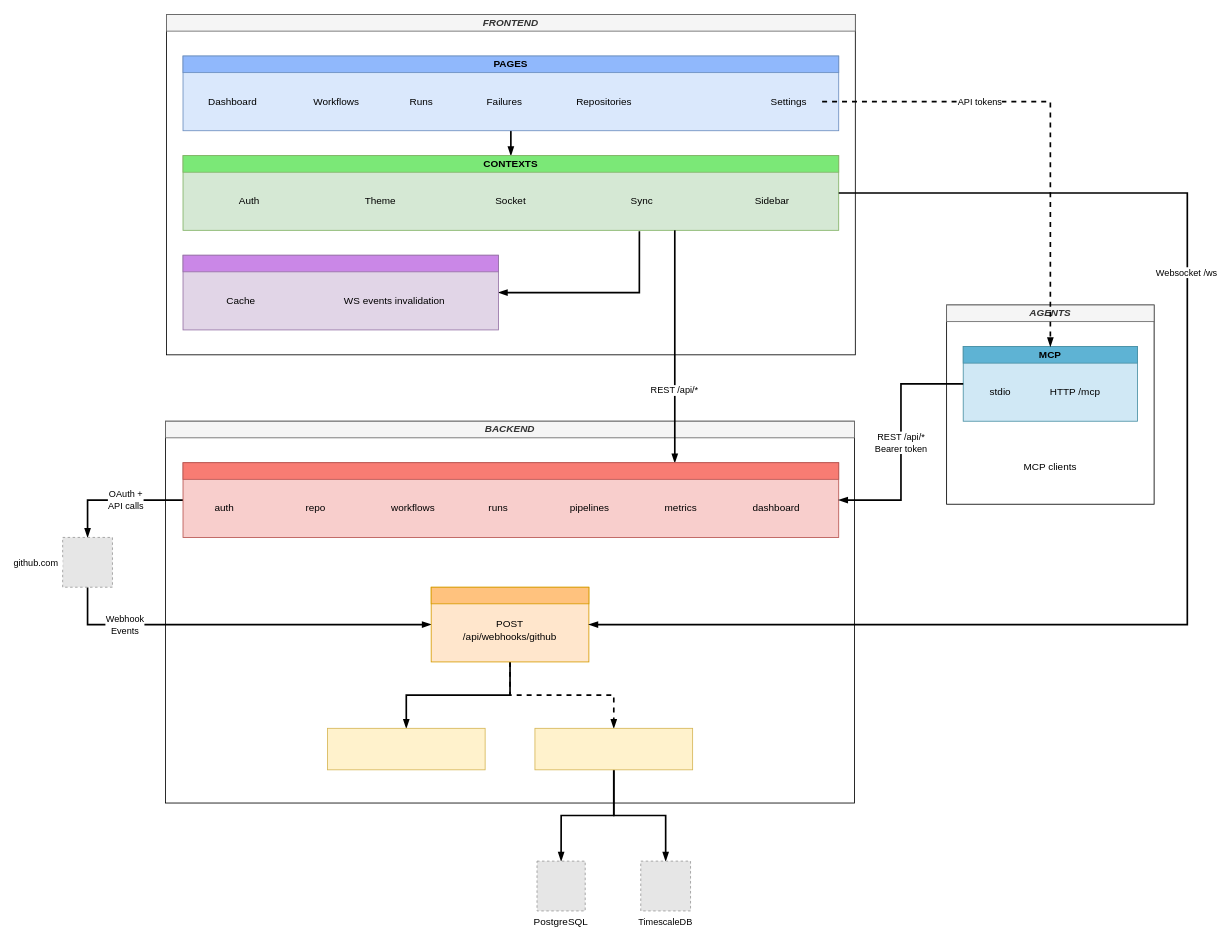
This 1231x943 diagram has some shape labels left out. Grey dashed boxes stand in for pictures. Here are the shapes that lost their labels. From the top down, the box of each, then its label:
(182, 254, 498, 272): TANSTACK QUERY
(182, 462, 839, 479): APIs
(430, 586, 589, 604): Webhook Handler
(327, 727, 485, 770): Memory store dev
(534, 727, 693, 770): PostgreSQL production
